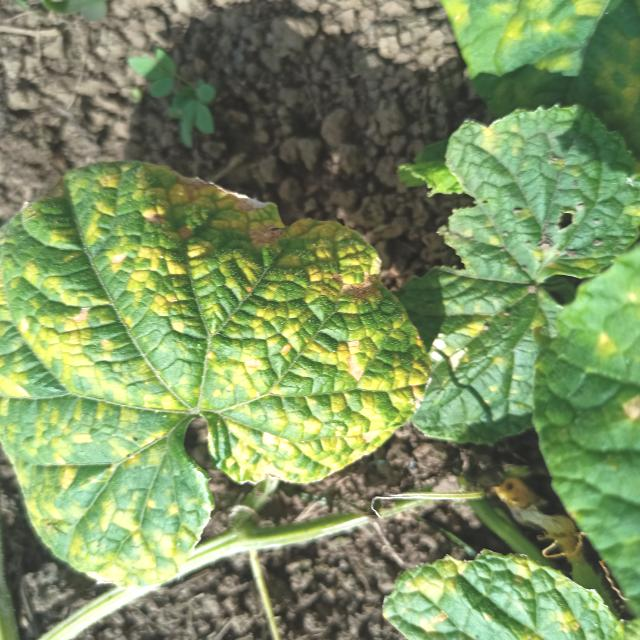disease_cucumber: (2, 160, 410, 577)
